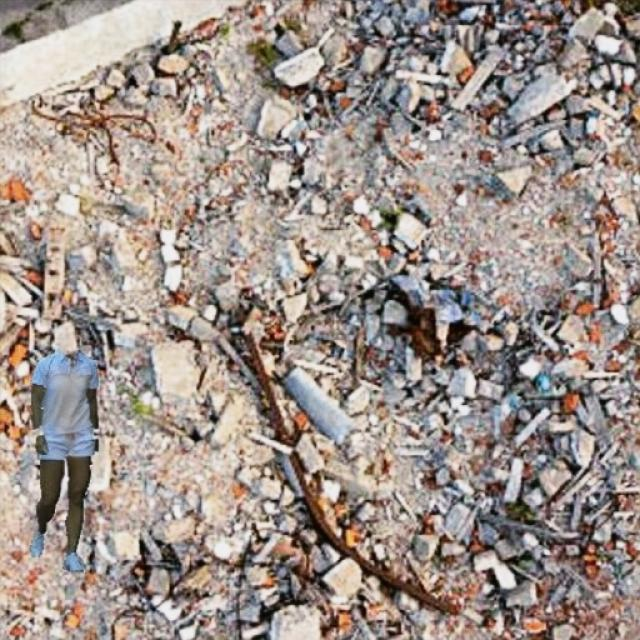Person in Rubble: (30, 348, 98, 572)
